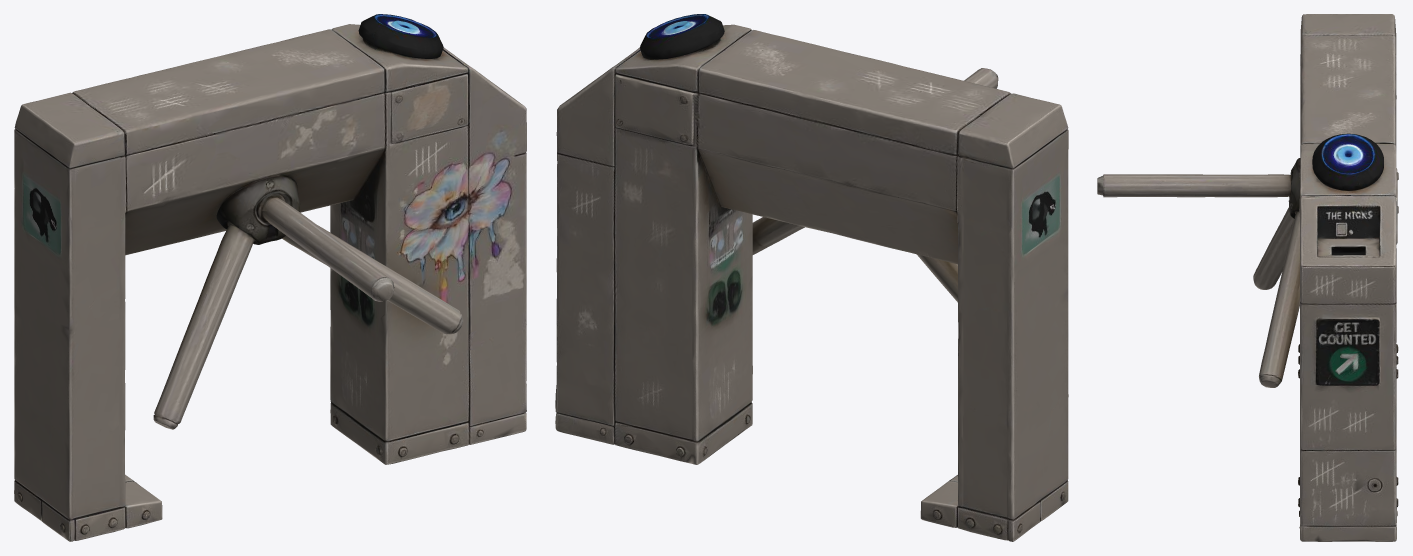
File: marks_turnstile.glb
The picture shows the model from 3 angles, left to right: view 1: azimuth 30°, elevation 25°; view 2: azimuth 150°, elevation 25°; view 3: azimuth 270°, elevation 25°; orthographic projection. The views are drawn at different scales.
Visible parts, largest first — view 1: tripo_node_4ef7bf59-4b05-4f1b-a1e1-90e1f50e0a7f; view 2: tripo_node_4ef7bf59-4b05-4f1b-a1e1-90e1f50e0a7f; view 3: tripo_node_4ef7bf59-4b05-4f1b-a1e1-90e1f50e0a7f.
Part boxes in pixels (left/top/right/bottom): tripo_node_4ef7bf59-4b05-4f1b-a1e1-90e1f50e0a7f: left=14, top=14, right=526, bottom=541; tripo_node_4ef7bf59-4b05-4f1b-a1e1-90e1f50e0a7f: left=555, top=14, right=1068, bottom=541; tripo_node_4ef7bf59-4b05-4f1b-a1e1-90e1f50e0a7f: left=1097, top=14, right=1398, bottom=541.
Bounding box in the file's own units: 1 × 0.8657 × 0.6609.
Materials: 1 (1 with a texture image).
